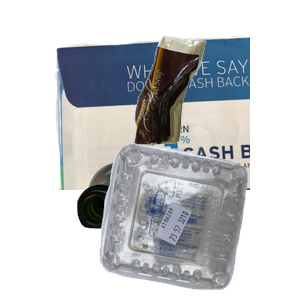glass: (74, 158, 223, 300)
paper: (52, 34, 292, 214)
plastic: (97, 141, 300, 300)
trash: (131, 34, 300, 177)
